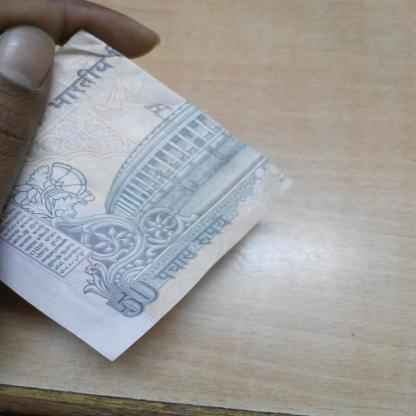Old50Back: (0, 29, 295, 363)
